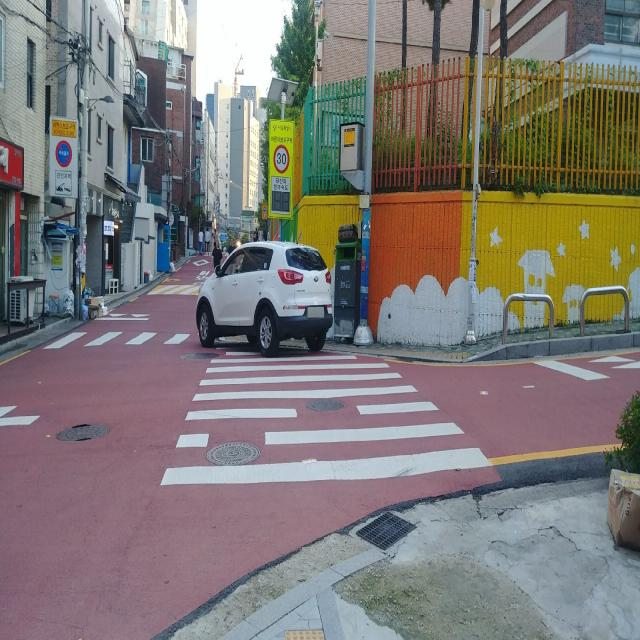횡단보도: (158, 347, 494, 488), (46, 327, 195, 354)
